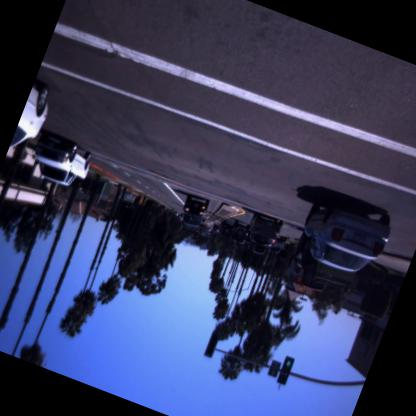trafficlight: (272, 348, 300, 390)
